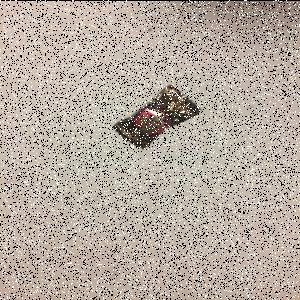Trash: (113, 85, 203, 151)
